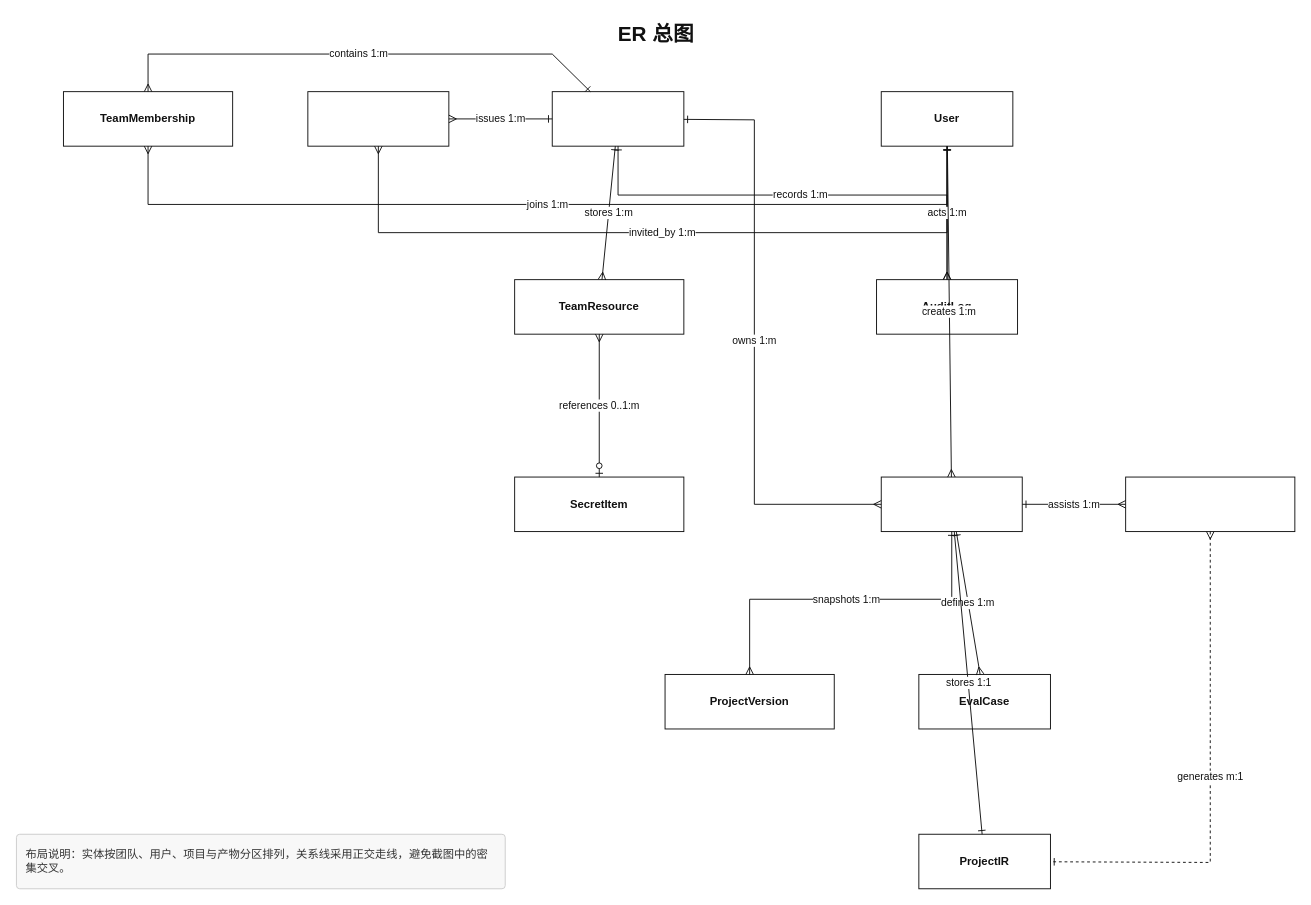
Some shapes in this 1311 by 905 pixel diagram are drawn without their labels. Here are the shapes that lost their labels. From the top down, the centre of each, then its label:
At (x=378, y=118): "Invitation".
At (x=617, y=118): "Team".
At (x=951, y=504): "Project".
At (x=1210, y=504): "AssistantSession".
